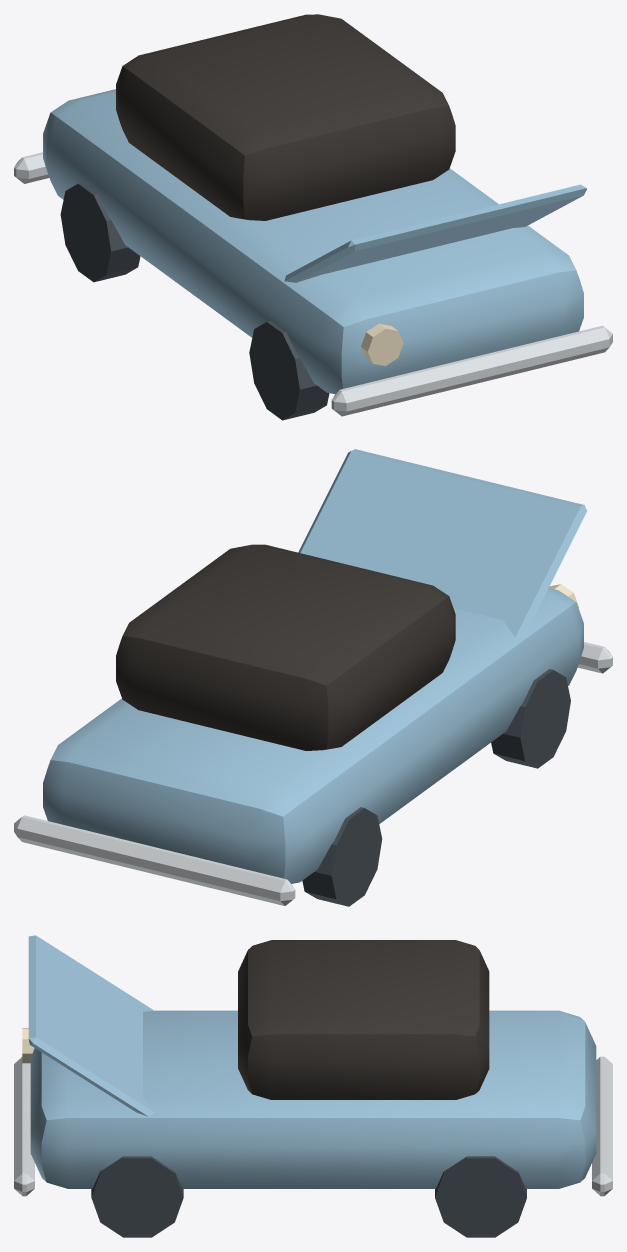
Rendered from Prop_CarWreck_A.fbx.
The picture shows the model from 3 angles, top to bottom: view 1: azimuth 30°, elevation 25°; view 2: azimuth 150°, elevation 25°; view 3: azimuth 270°, elevation 25°; orthographic projection. The views are drawn at different scales.
Visible parts, largest first — view 1: Body, Bonnet; view 2: Body, Bonnet; view 3: Body, Bonnet.
Boxes of the visible parts, x1=… form: Body: x1=43, y1=14, x2=583, y2=394; Bonnet: x1=14, y1=152, x2=612, y2=420; Body: x1=43, y1=544, x2=583, y2=883; Bonnet: x1=14, y1=449, x2=612, y2=906; Body: x1=30, y1=940, x2=596, y2=1188; Bonnet: x1=14, y1=935, x2=612, y2=1237.
Size of the model in its own units: 7 by 5.25 by 14.3.
